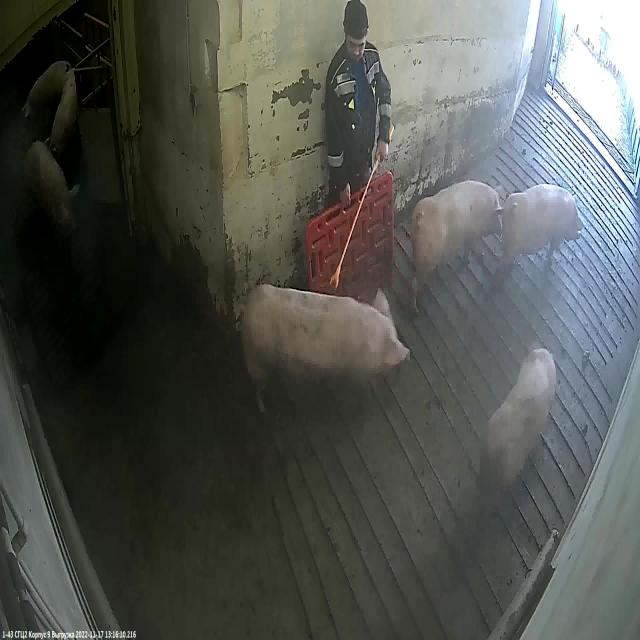pig: (239, 284, 410, 411), (413, 181, 503, 312), (482, 347, 557, 500), (502, 185, 584, 271), (28, 141, 80, 229), (24, 61, 71, 118), (46, 78, 76, 165)
